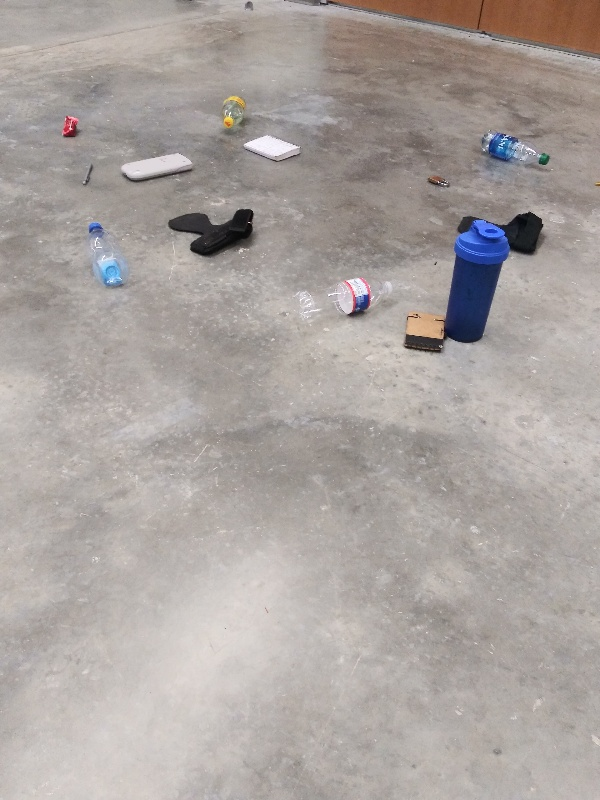bottle: (289, 275, 398, 331), (83, 217, 135, 292), (476, 127, 553, 173), (214, 88, 253, 133)
